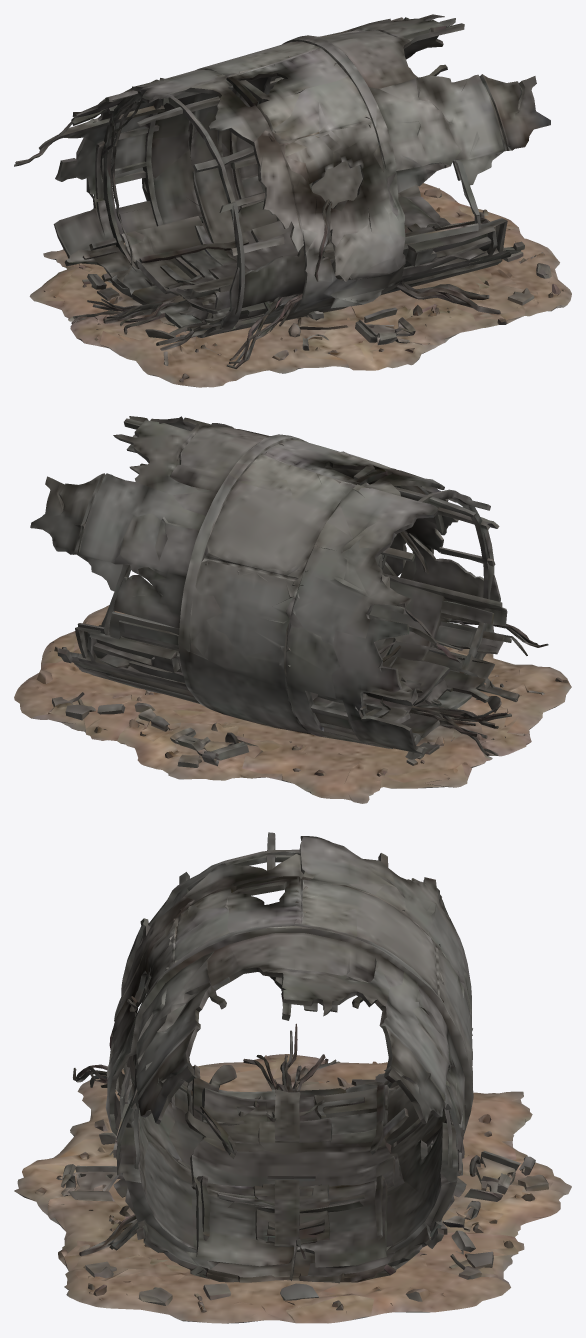
Rendered from decor.ship_wreck.glb.
The picture shows the model from 3 angles, top to bottom: view 1: azimuth 30°, elevation 25°; view 2: azimuth 150°, elevation 25°; view 3: azimuth 270°, elevation 25°; orthographic projection. The views are drawn at different scales.
Visible parts, largest first — view 1: body; view 2: body; view 3: body.
Part boxes in pixels (box(x1,y1,x2,y2)): body: box(14, 14, 571, 387); body: box(14, 416, 571, 803); body: box(14, 832, 571, 1323).
Size of the model in its own units: 3.2 by 1.58 by 2.8.
Materials: 1 (1 with a texture image).
